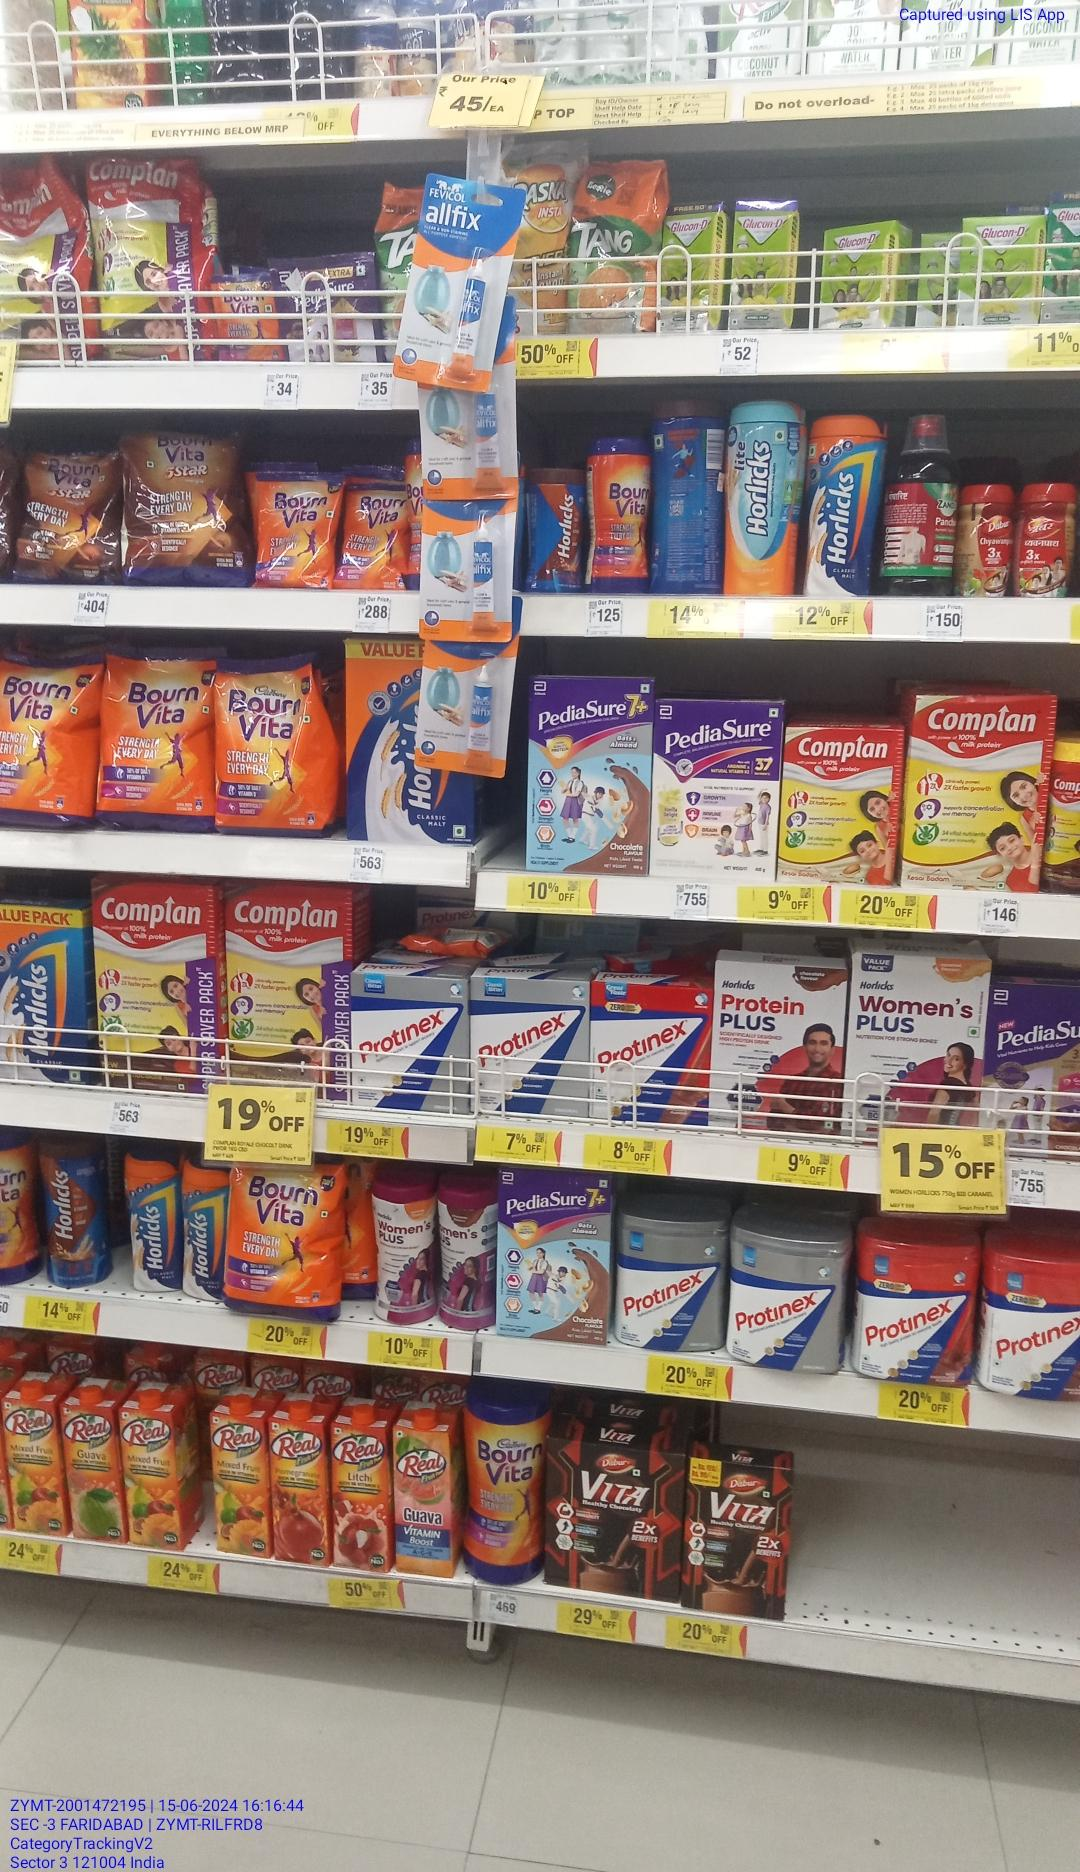BOURN_VITA_1_KG_JAR: (464, 1396, 544, 1584)
BOURN_VITA_200_G_JAR: (586, 437, 649, 594)
BOURN_VITA_750_G_POUCH: (215, 660, 328, 837), (102, 649, 211, 829), (230, 1169, 338, 1324), (0, 652, 91, 828)
BOURN_VITA_75_G_POUCH: (257, 472, 338, 589)
BOURN_VITA_FIVE_STAR_MAGIC_750_G_POUCH: (126, 422, 249, 582), (18, 438, 118, 584)
COMPLAN_CHOCOLATE_1_KG_PACK: (100, 879, 221, 1083), (226, 885, 350, 1081)
COMPLAN_KESAR_BADAM_200_GMS_PACK: (783, 728, 897, 885)
COMPLAN_KESAR_BADAM_500_GMS_PACK: (909, 694, 1041, 892)
COMPLAN_RC_POUCH_700_GMS_12: (94, 157, 206, 360)
HORLICKS_LITE_REGULAR_MALT_500_GM_JAR: (724, 402, 798, 599)
HORLICK_CHOCOLATE_200_G_JAR: (526, 465, 584, 595)
HORLICK_CHOCOLATE_500_G_JAR: (42, 1142, 111, 1286)
HORLICK_CLASSIC_MALT_500_G_JAR: (806, 415, 870, 594), (126, 1156, 179, 1292), (181, 1169, 226, 1302)
PEDIASURE_7_PLUS_CHOCOLATE_400_G_PACK: (526, 675, 648, 877), (496, 1165, 606, 1342)
PROTINEX_CHOCOLATE_400_G_JAR: (854, 1237, 972, 1382), (982, 1250, 1080, 1398)
PROTINEX_ORIGINAL_400_G_JAR: (729, 1225, 845, 1373), (615, 1214, 725, 1353)
